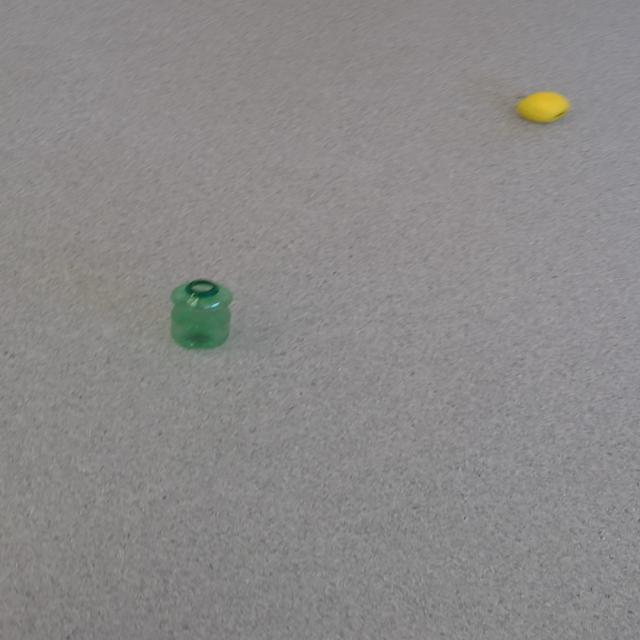apple: (516, 91, 570, 123)
bottle: (168, 278, 233, 350)
